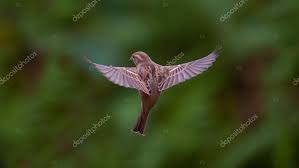hsparrow: (76, 43, 226, 137)
